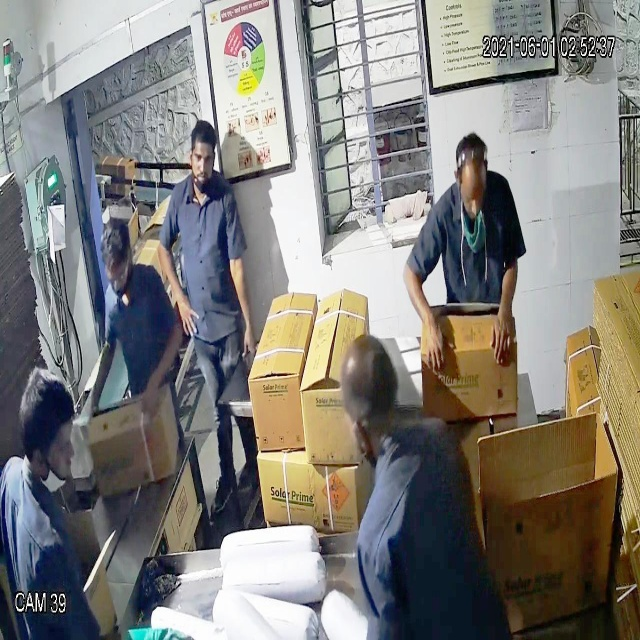Gafas: (99, 256, 138, 292)
Sin_gafas: (182, 143, 218, 174)
